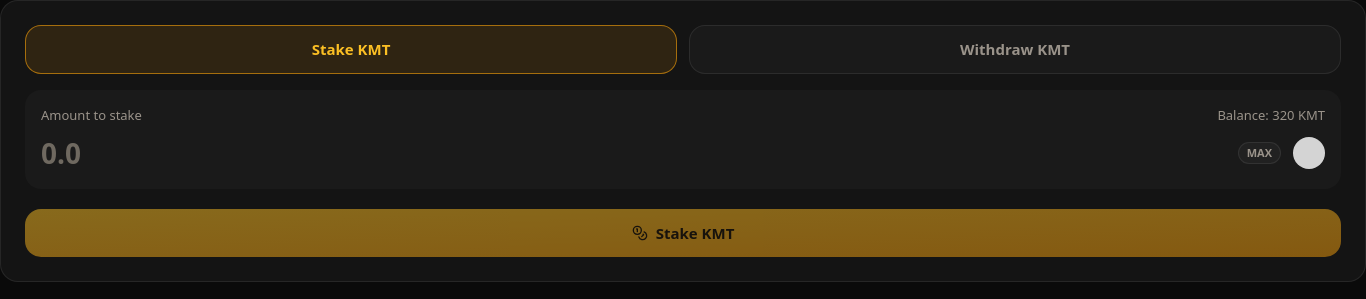
Test case: StakeCard › MAX fills the wallet balance when staking and the staked balance when withdrawing
Click the button "MAX".
click(1259, 153)  # box left=1238, top=142, right=1281, bottom=164
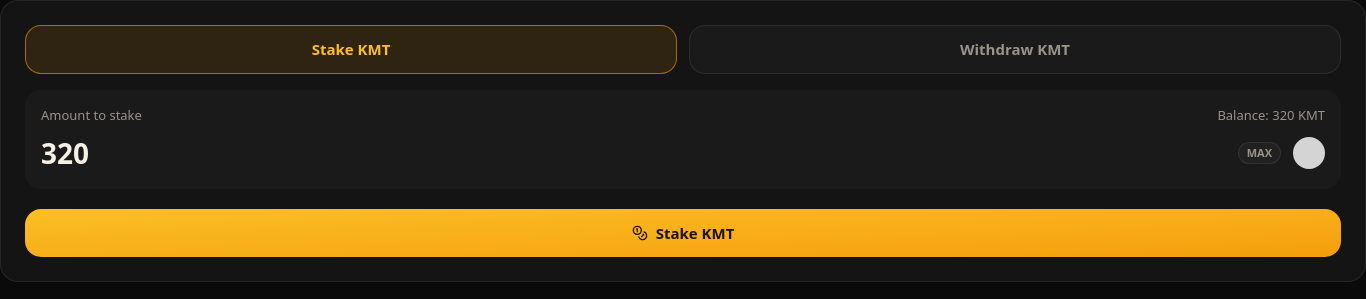
expect the field named "Amount to stake" holds "320": met, box left=41, top=133, right=1226, bottom=173
Click the tab "Withdraw KMT".
click(1015, 49)  # box left=689, top=25, right=1341, bottom=74
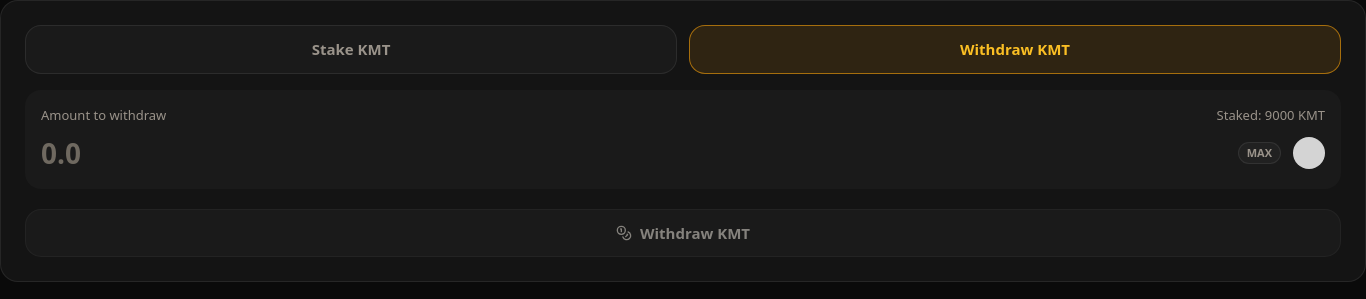
Click the button "MAX".
click(1259, 153)  # box left=1238, top=142, right=1281, bottom=164
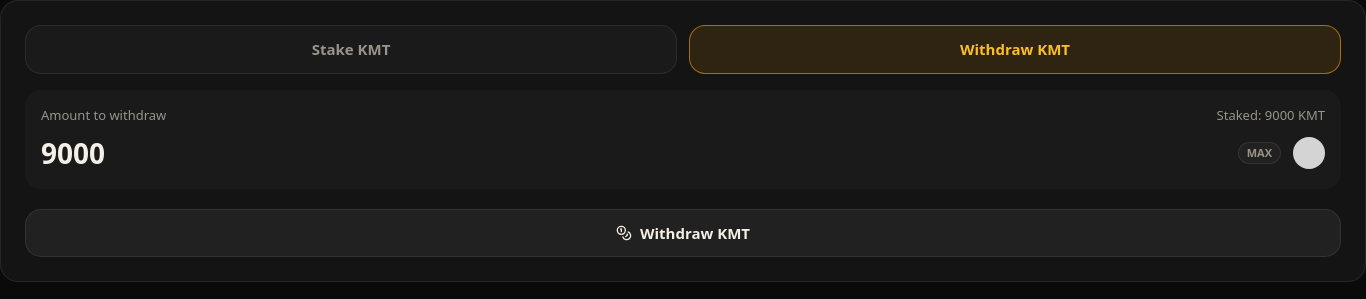
expect the field named "Amount to withdraw" holds "9000": met, box left=41, top=133, right=1226, bottom=173
